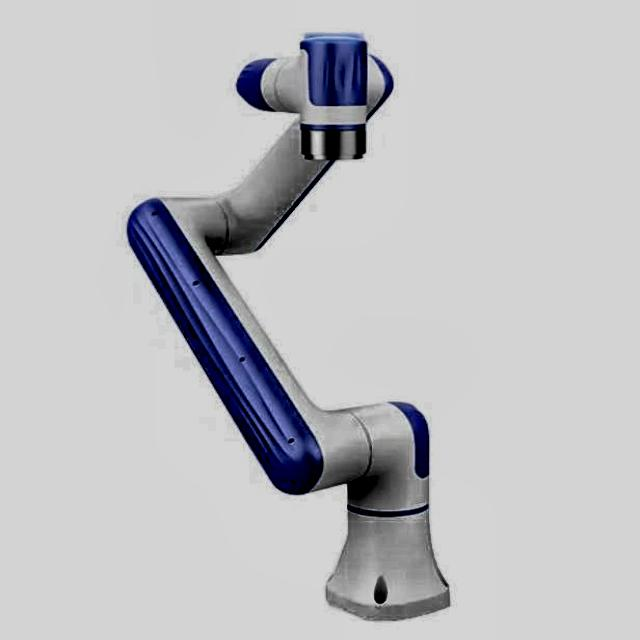robot: (126, 29, 453, 622)
